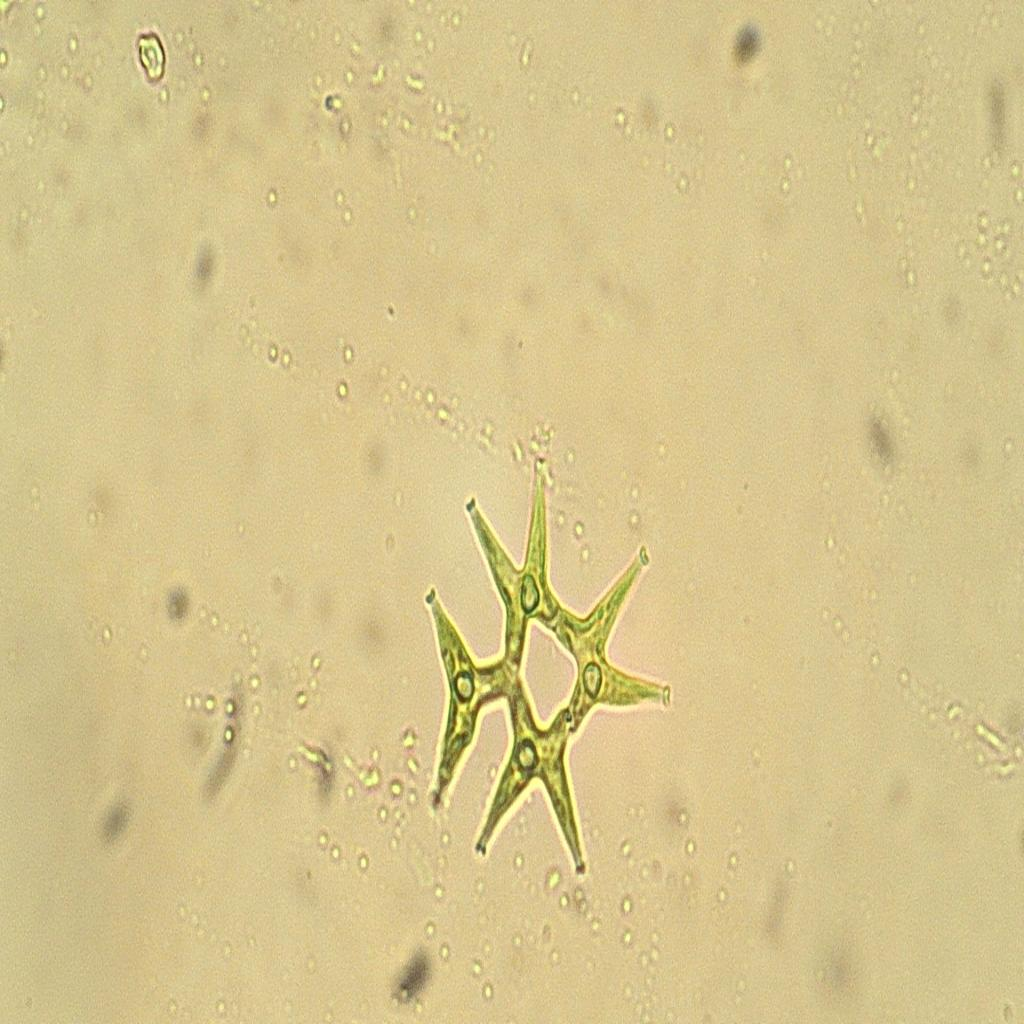Pediastrum_75FI: (397, 446, 694, 891)
